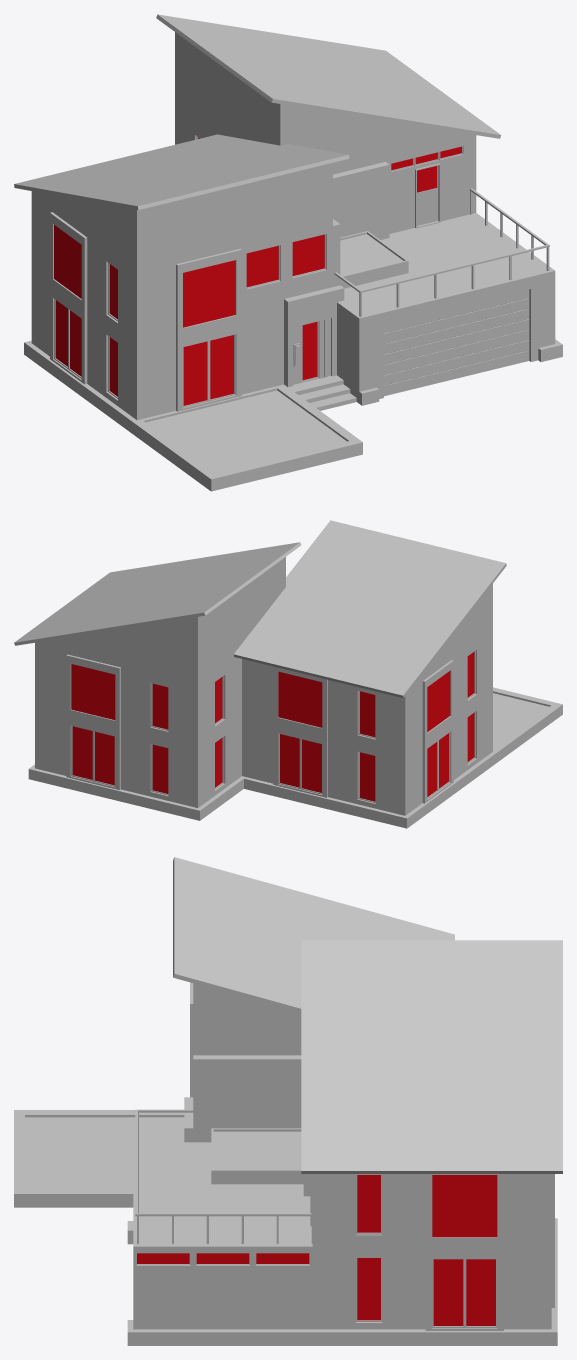
Rendered from SM_cottage_04.gltf.
3 views of the same model, one above another, from view 1: azimuth 30°, elevation 25°; view 2: azimuth 150°, elevation 25°; view 3: azimuth 270°, elevation 25° (orthographic). The views are drawn at different scales.
Parts seen in each view (by area): view 1: cottage_04; view 2: cottage_04; view 3: cottage_04.
Part boxes in pixels (x1,y1,x2,y2): cottage_04: (14,14,562,491); cottage_04: (14,520,562,828); cottage_04: (14,857,562,1345).
Size of the model in its own units: 18 by 10.41 by 18.
